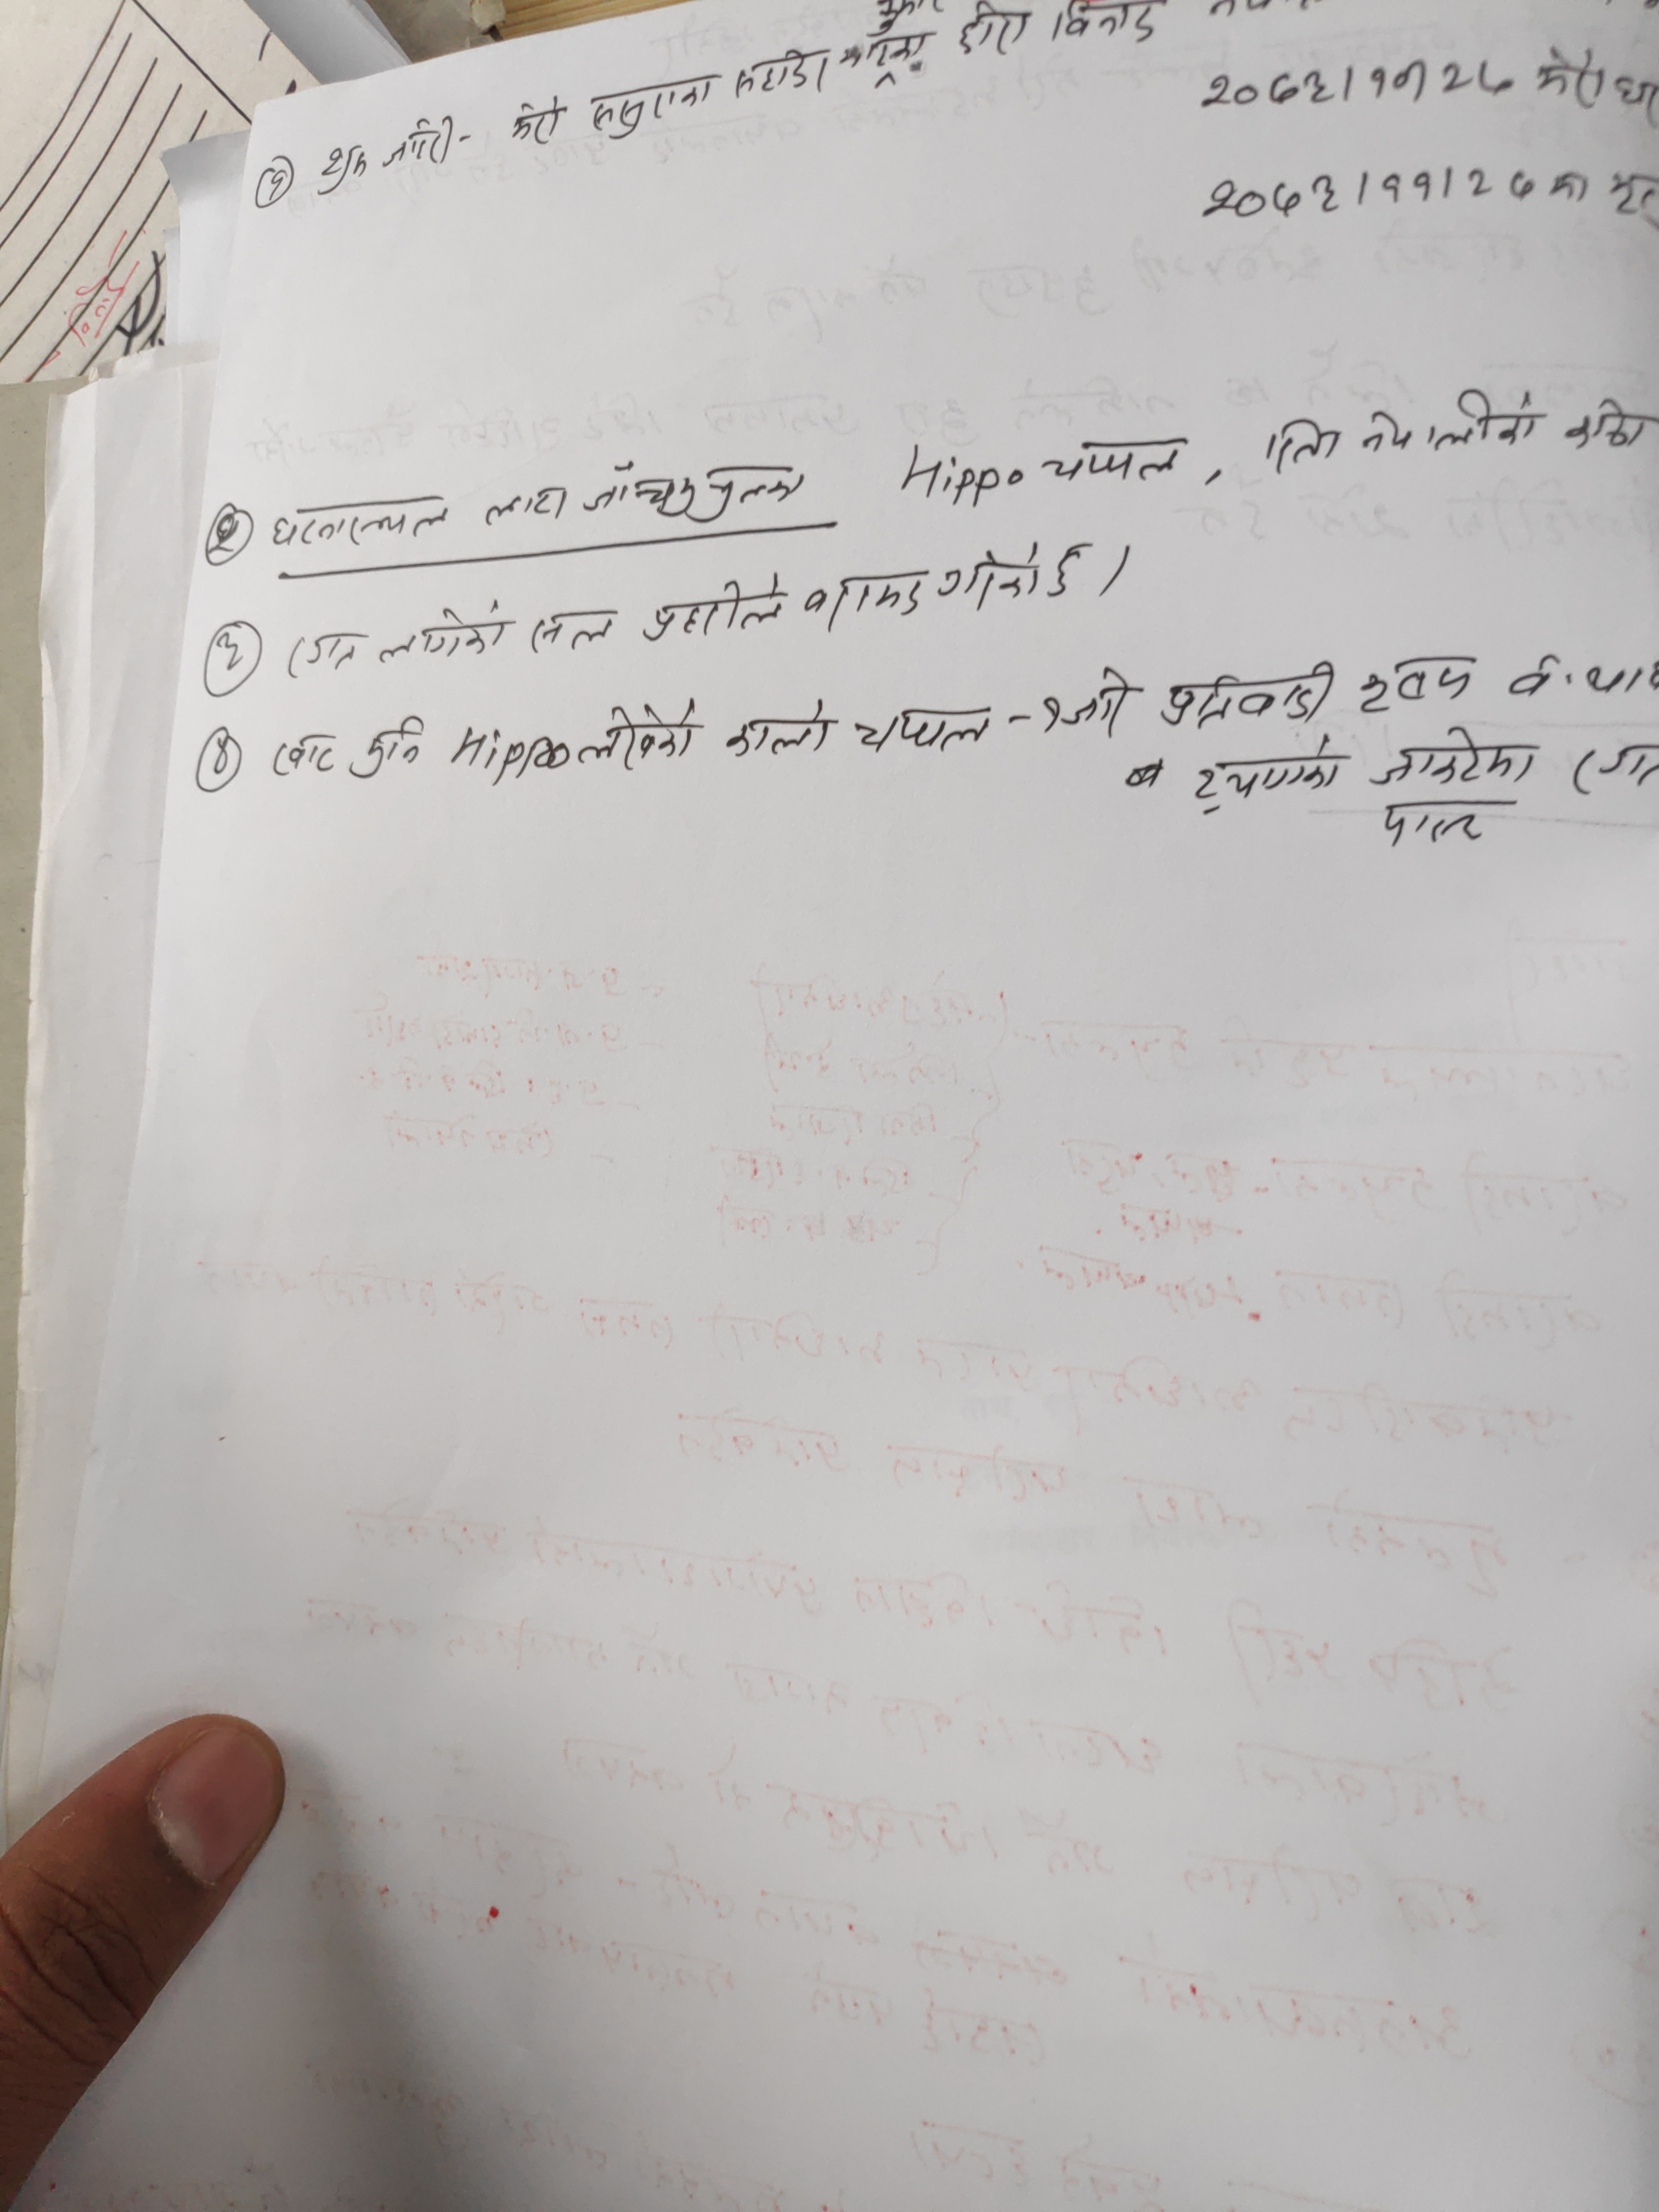text: (1270, 381, 1542, 484), (1201, 160, 1539, 221), (1199, 54, 1518, 117), (1162, 660, 1338, 738), (1192, 732, 1345, 819), (638, 566, 788, 648), (1371, 723, 1542, 791), (267, 496, 450, 549), (572, 698, 702, 772), (798, 561, 931, 632), (375, 604, 504, 671), (849, 697, 988, 758), (586, 71, 716, 136), (931, 543, 1046, 615), (1356, 651, 1483, 716), (1039, 428, 1183, 482), (586, 462, 697, 526), (720, 697, 830, 761), (350, 709, 429, 782), (706, 462, 807, 514), (523, 606, 620, 660), (1068, 665, 1131, 747), (477, 481, 572, 531), (730, 51, 833, 94), (263, 732, 347, 784), (378, 115, 455, 171), (500, 92, 565, 152), (1044, 538, 1093, 604), (312, 138, 373, 190), (307, 629, 357, 674), (1042, 690, 1063, 737)
